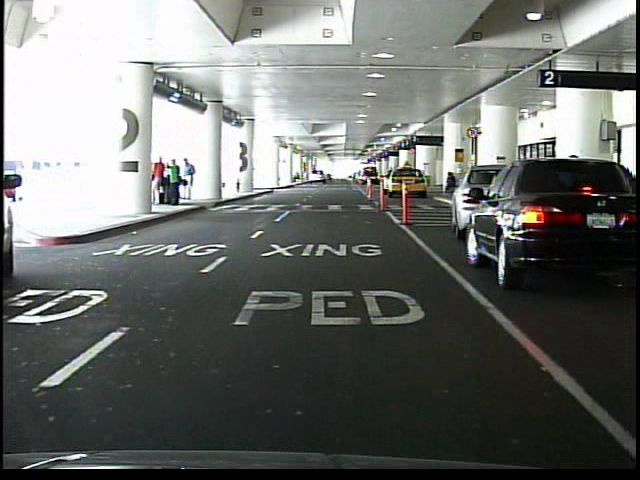person: (155, 153, 168, 207), (168, 158, 181, 206), (182, 158, 196, 201), (442, 172, 456, 194)
